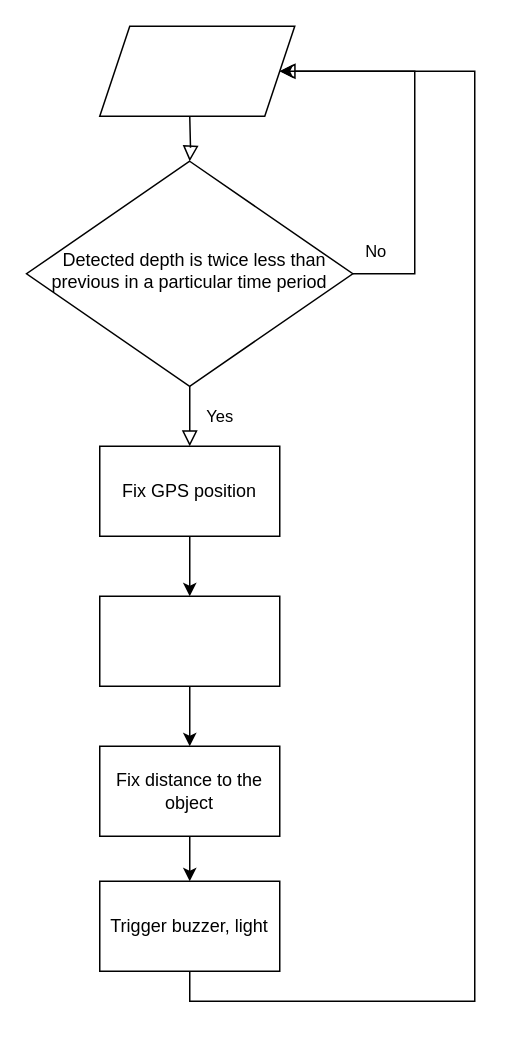
This 513x1040 diagram has some shape labels left out. The shapes that lost their labels are listed below. From the top down, each one's box as (x1, y1, x2, y2) in pixels, then its label:
(98, 25, 295, 116): Ultrasonic sensor collects data
(98, 595, 280, 686): Fix time
